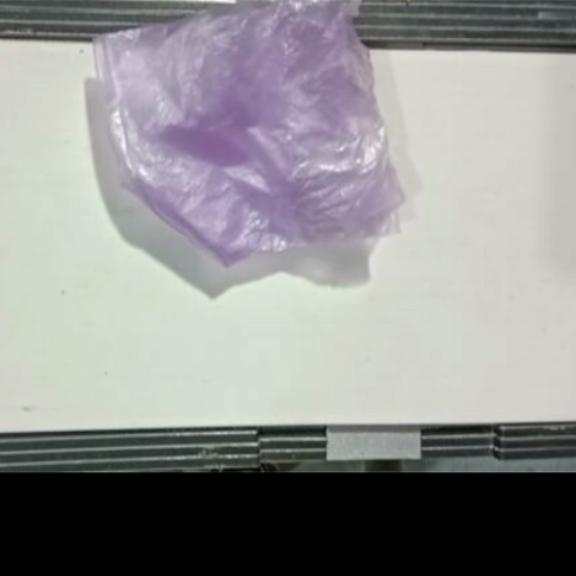Plastik: (91, 0, 407, 271)
